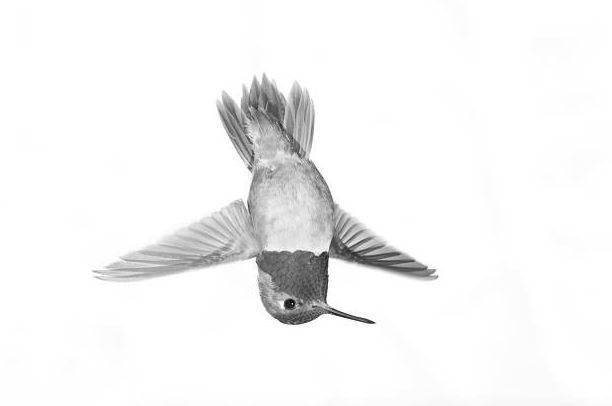Bird: (83, 68, 444, 325)
